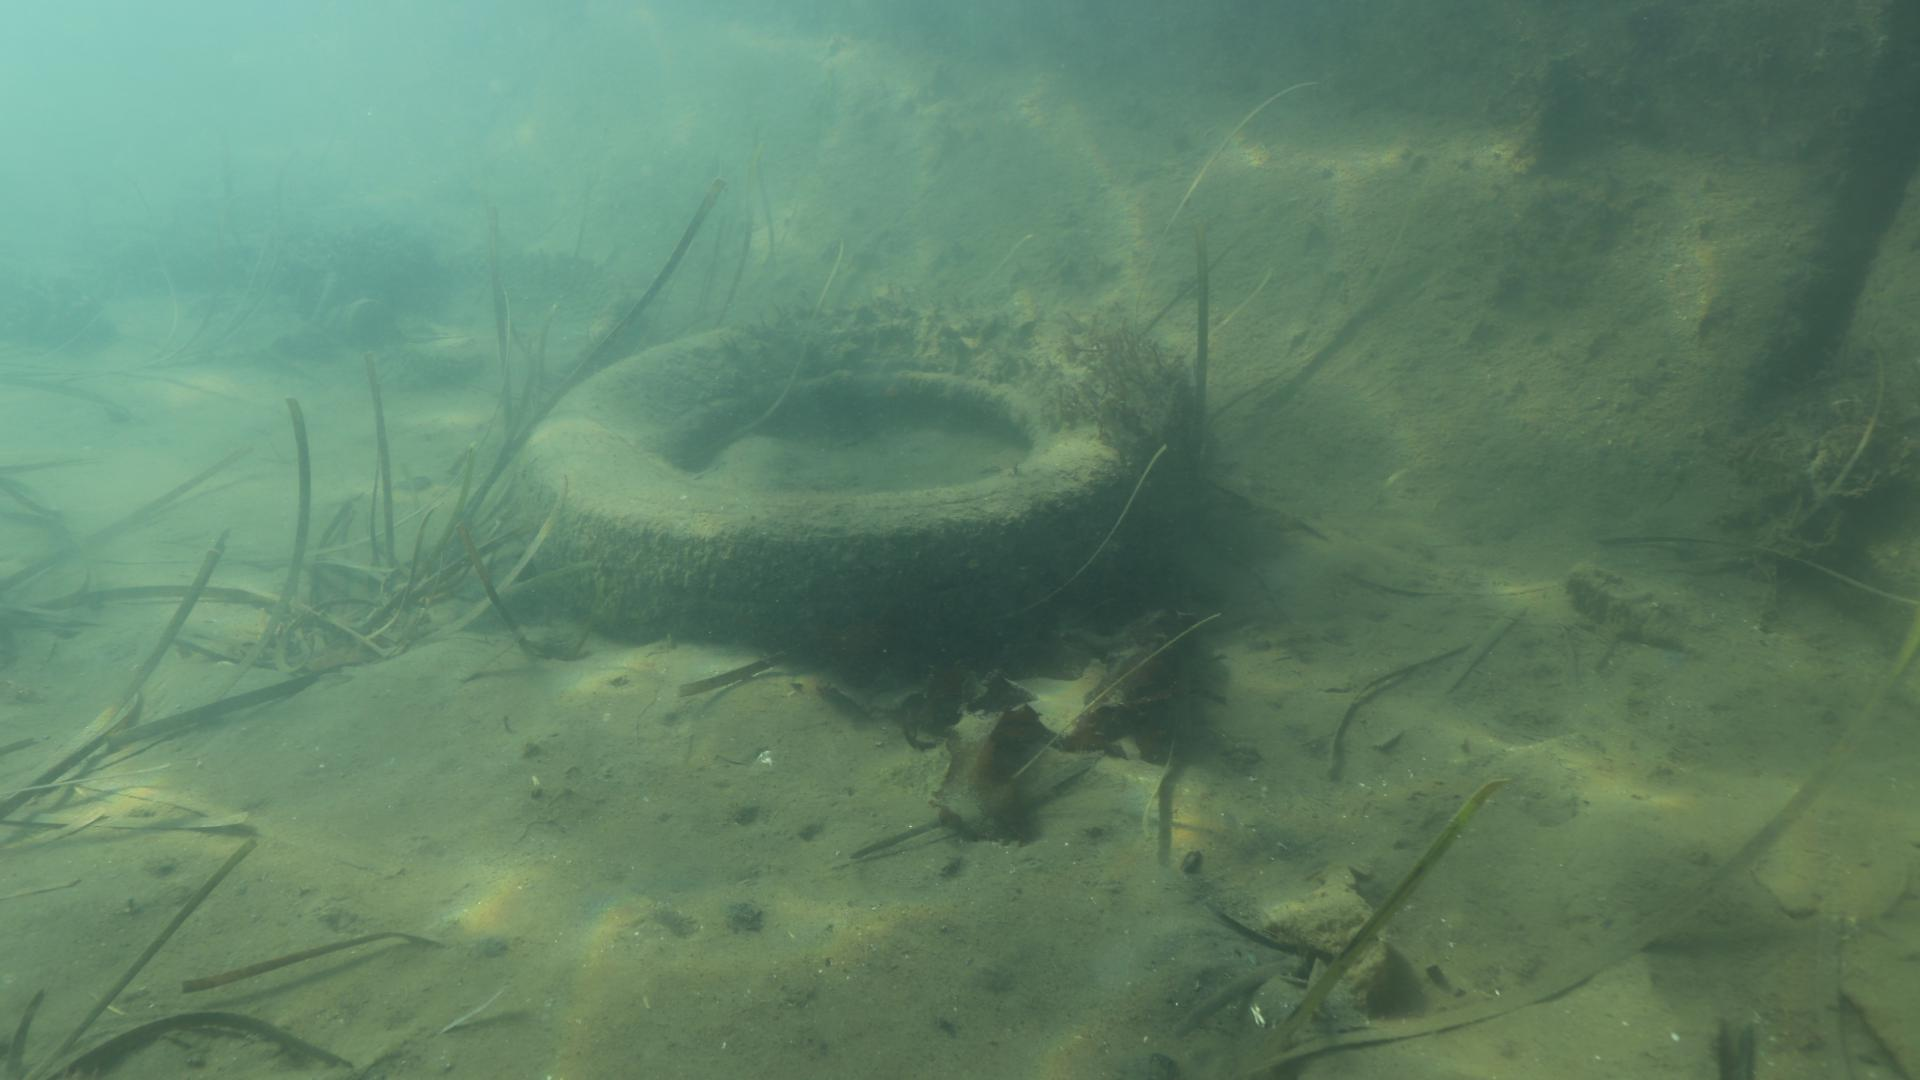tire: (524, 305, 1192, 666)
